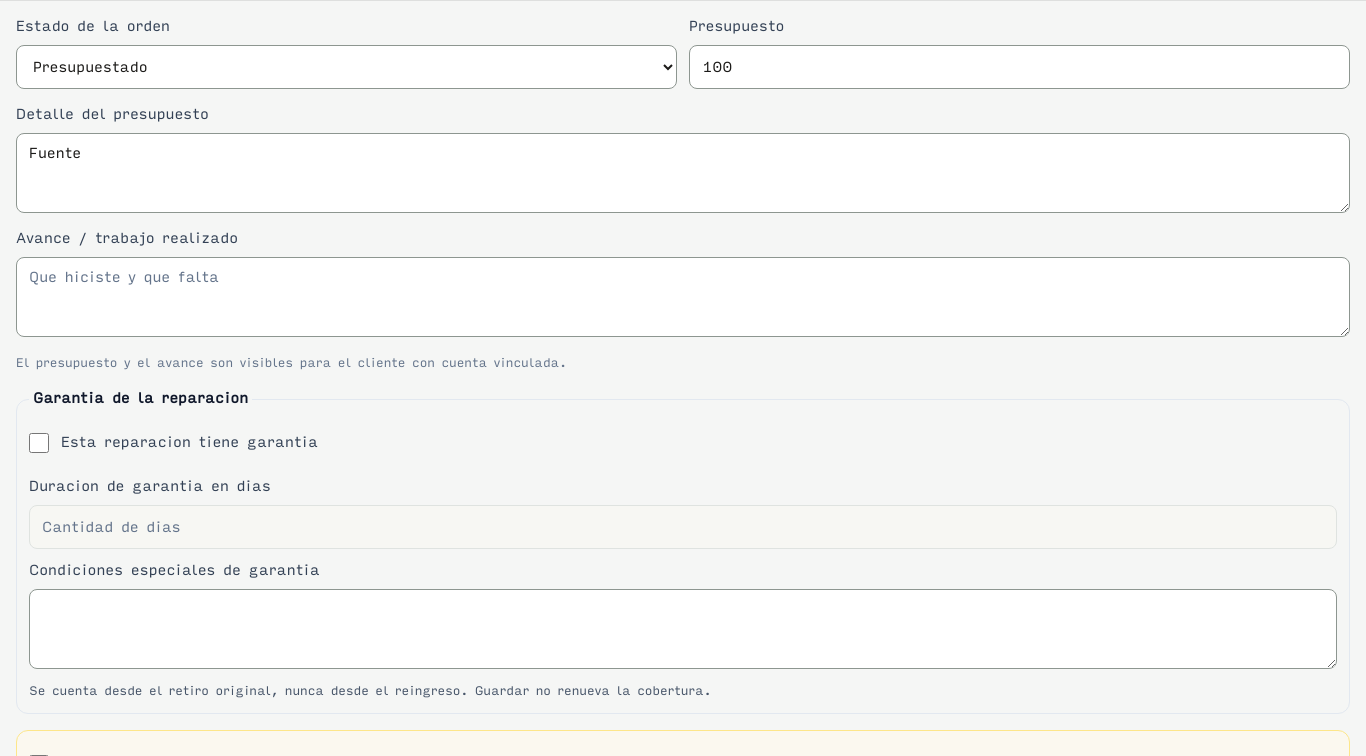
editor unico de reparaciones › explica que debe estar lista para entrega sin saltar el flujo actual
The width and height of the screenshot is (1366, 756).
Step 1. Select "Retirado por cliente" in the dropdown labelled "Estado de la orden" → (346, 67), box [16,45,677,89]
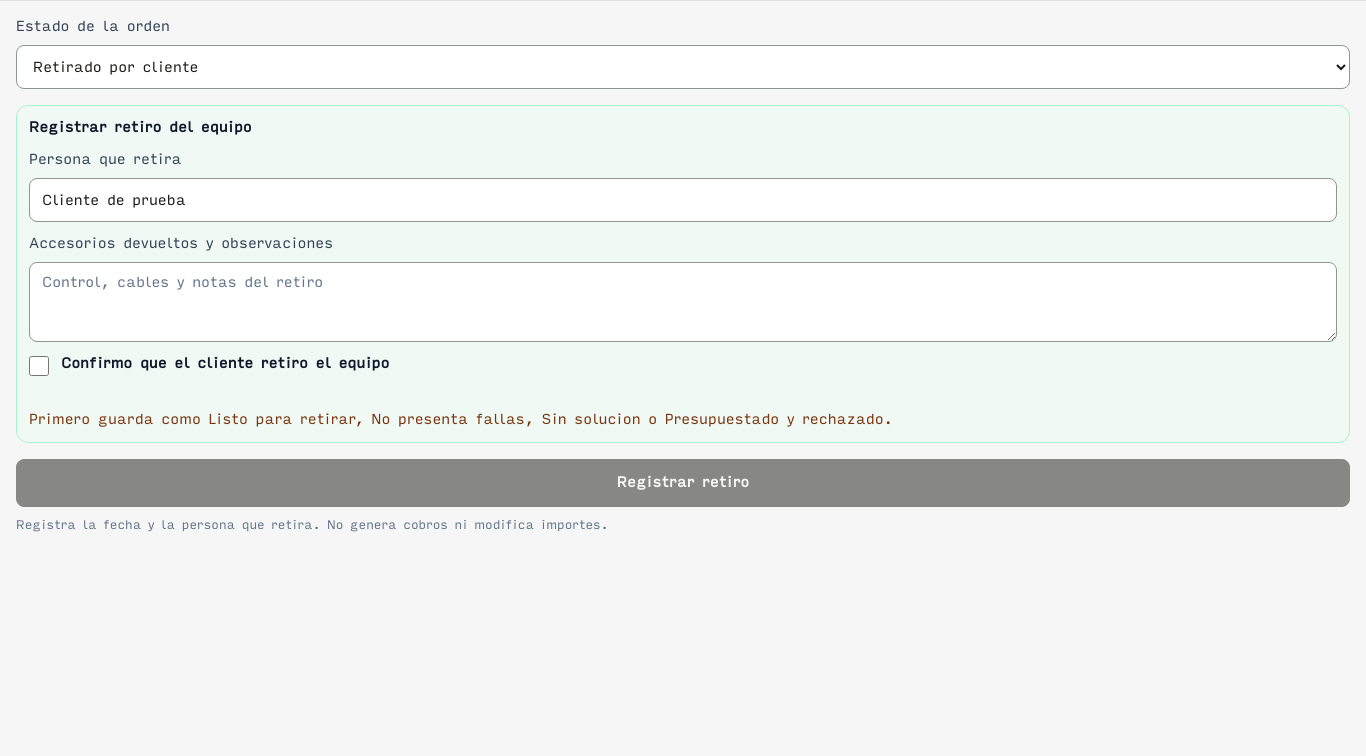
Expected: the button "Registrar retiro" is disabled, [16,459,1350,507]
Expected: the text "Primero guarda como" is shown, [29,411,892,428]
